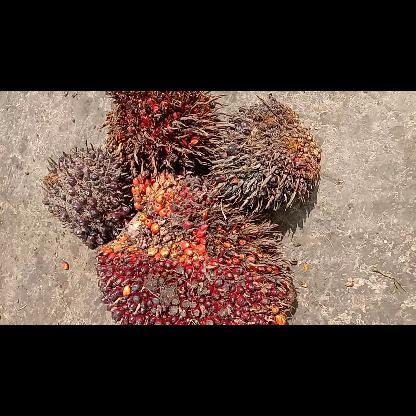Kurang masak: (41, 145, 135, 249)
TBS abnormal: (211, 98, 320, 212)
TBS masak: (96, 172, 296, 324)
Terlalu masak: (100, 91, 214, 171)
